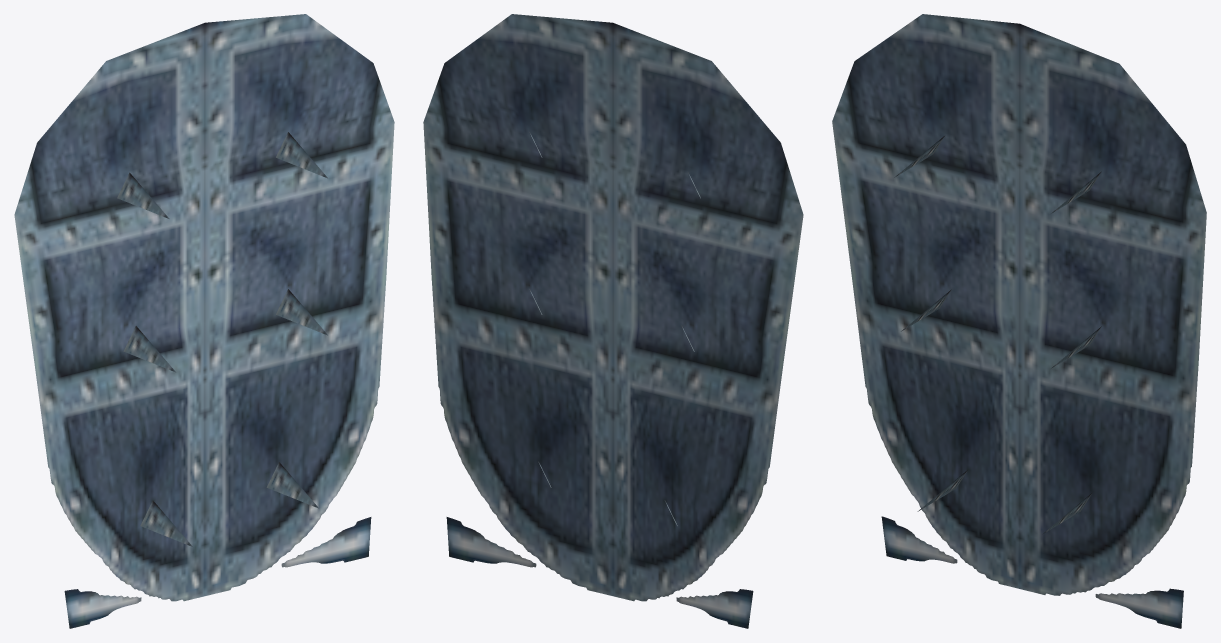
Rendered from gate_02.dae.
3 renders of one model, left to right at view 1: azimuth 30°, elevation 25°; view 2: azimuth 150°, elevation 25°; view 3: azimuth 330°, elevation 25°, orthographic.
Visible parts, largest first — view 1: gate00_PIVOT; view 2: gate00_PIVOT; view 3: gate00_PIVOT.
Part boxes in pixels (left/top/right/bottom): gate00_PIVOT: left=14, top=14, right=394, bottom=628; gate00_PIVOT: left=423, top=14, right=803, bottom=628; gate00_PIVOT: left=832, top=14, right=1206, bottom=628.
Size of the model in its own units: 2.42 by 3.49 by 0.5191.
Materials: 1 (1 with a texture image).
